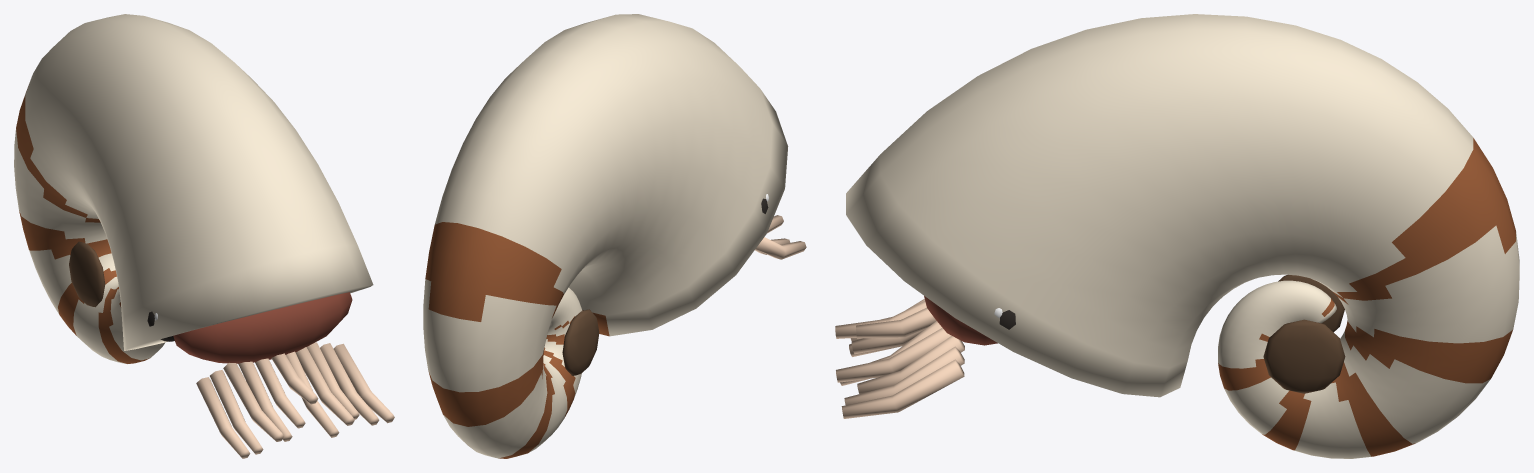
The model's file is sea-nautilus.glb.
3 views of the same model, side by side, from view 1: azimuth 30°, elevation 25°; view 2: azimuth 150°, elevation 25°; view 3: azimuth 270°, elevation 25° (orthographic). The views are drawn at different scales.
Visible parts, largest first — view 1: nautilus; view 2: nautilus; view 3: nautilus.
Part boxes in pixels (x1,y1,x2,y2): nautilus: (14,14,394,458); nautilus: (423,14,806,458); nautilus: (835,14,1519,458).
Size of the model in its own units: 0.0849 by 0.1402 by 0.2006.
